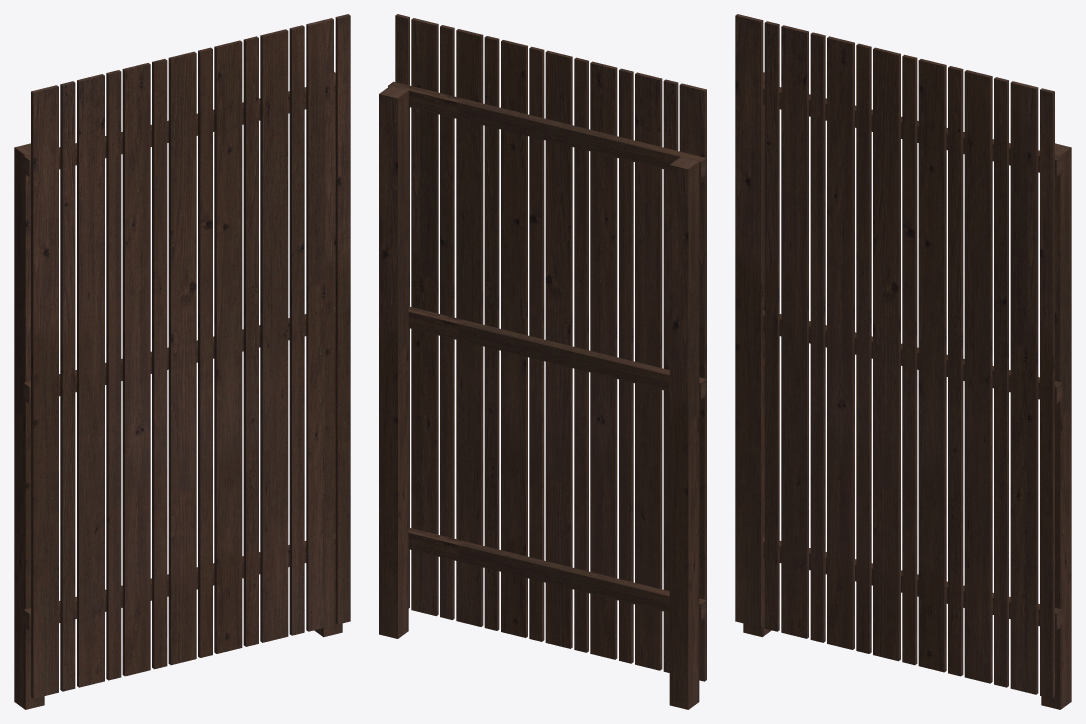
Rendered from tatehari80-40_h1800_darkpine.fbx.
The picture shows the model from 3 angles, left to right: view 1: azimuth 30°, elevation 25°; view 2: azimuth 150°, elevation 25°; view 3: azimuth 330°, elevation 25°; orthographic projection. The views are drawn at different scales.
Parts seen in each view (by area): view 1: tatehari80-40_h1800_darkpine; view 2: tatehari80-40_h1800_darkpine; view 3: tatehari80-40_h1800_darkpine.
Part boxes in pixels (<box>): tatehari80-40_h1800_darkpine: <box>14,14,350,709</box>; tatehari80-40_h1800_darkpine: <box>379,14,706,709</box>; tatehari80-40_h1800_darkpine: <box>735,14,1071,709</box>.
Bounding box in the file's own units: 100 × 185 × 10.2.
Materials: 1 (1 with a texture image).
